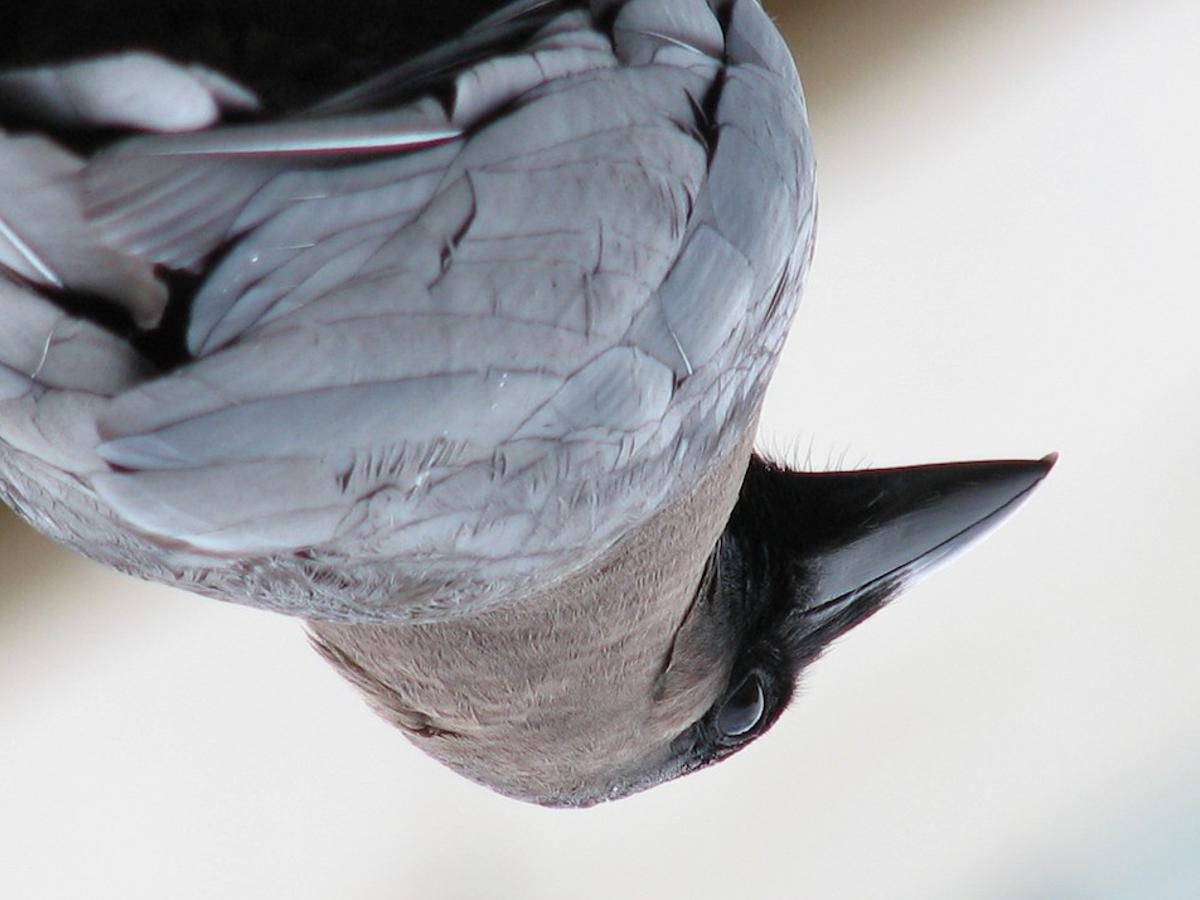crow: (17, 1, 1067, 819)
